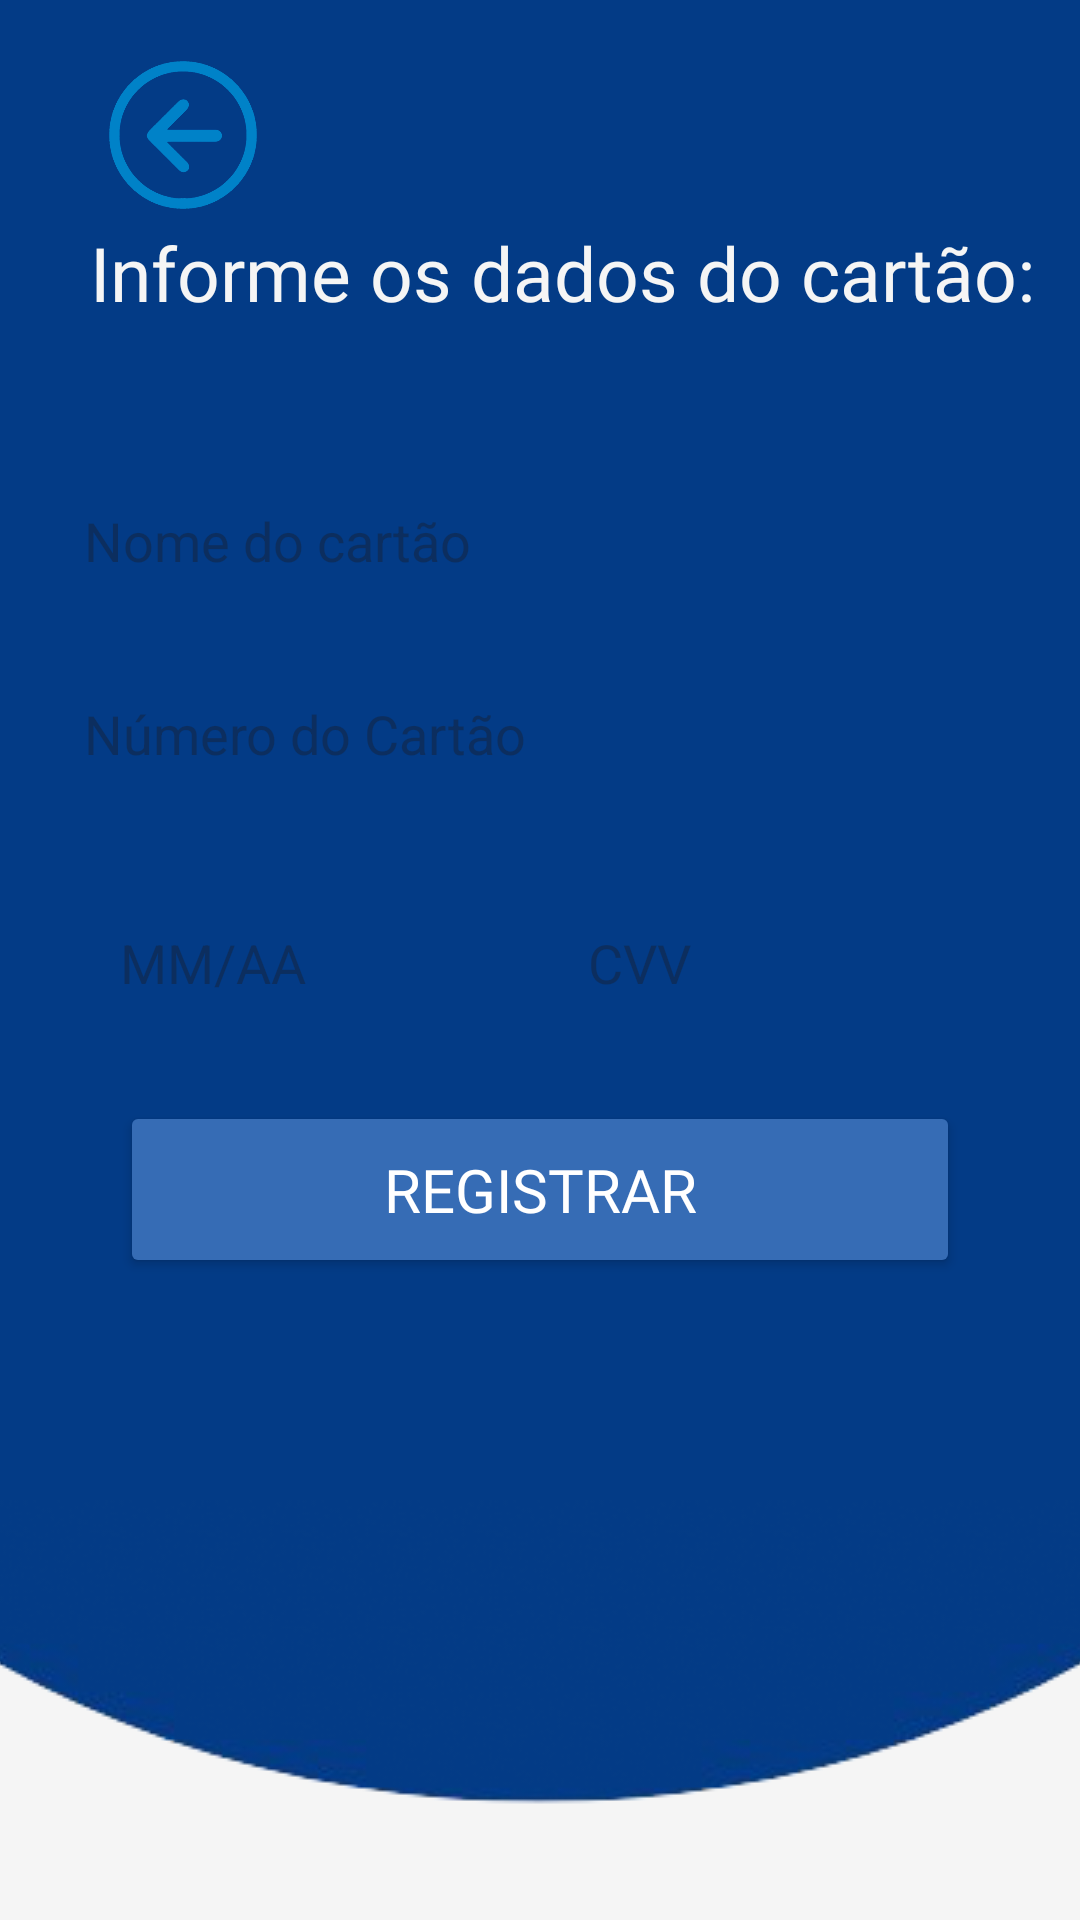

Where icons sit on this 1080x1920 app screen, as box(x1, y1, x2, y2):
seta voltar: box(109, 61, 257, 209)
